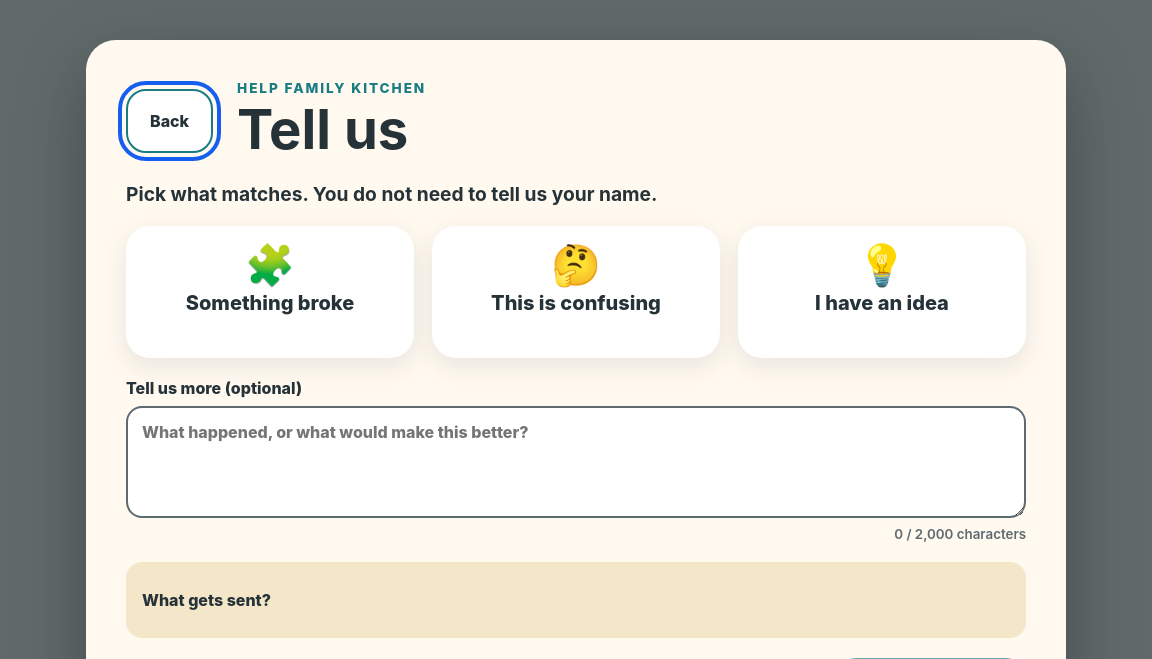
Test: dashboard feedback screen › announces a truthful queued result
This screenshot has width=1152, height=659.
Click the button "💡 I have an idea": [882, 292] box x1=738 y1=226 x2=1026 y2=358
(page scrolled)
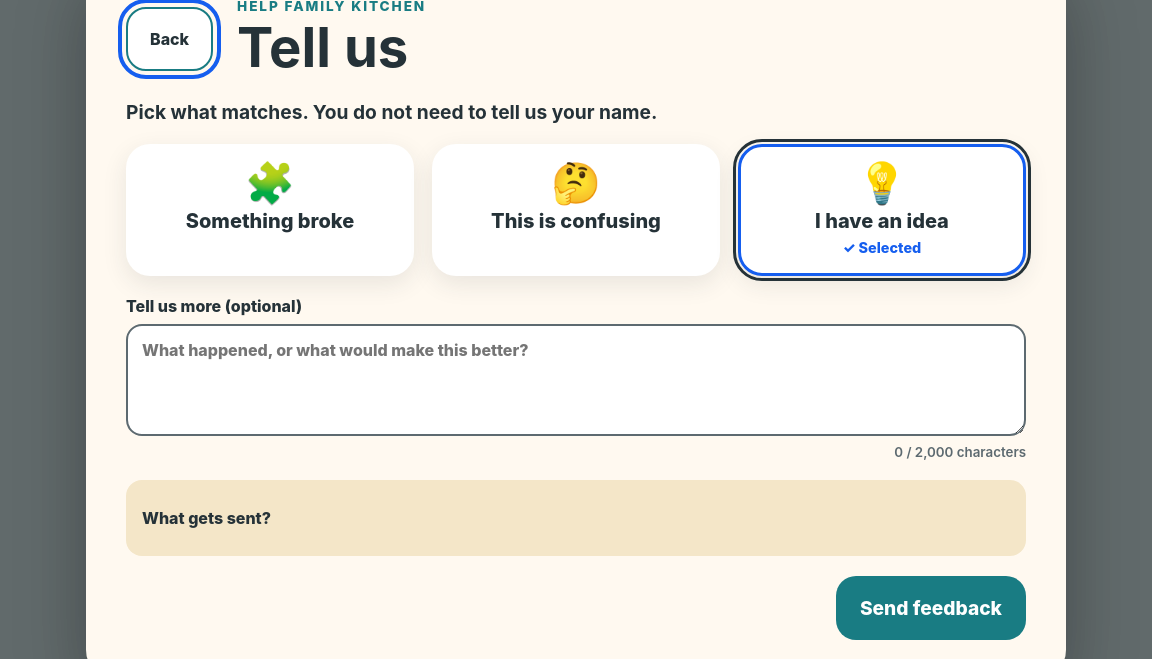
Click the button "Send feedback": [931, 608] box x1=836 y1=576 x2=1026 y2=640
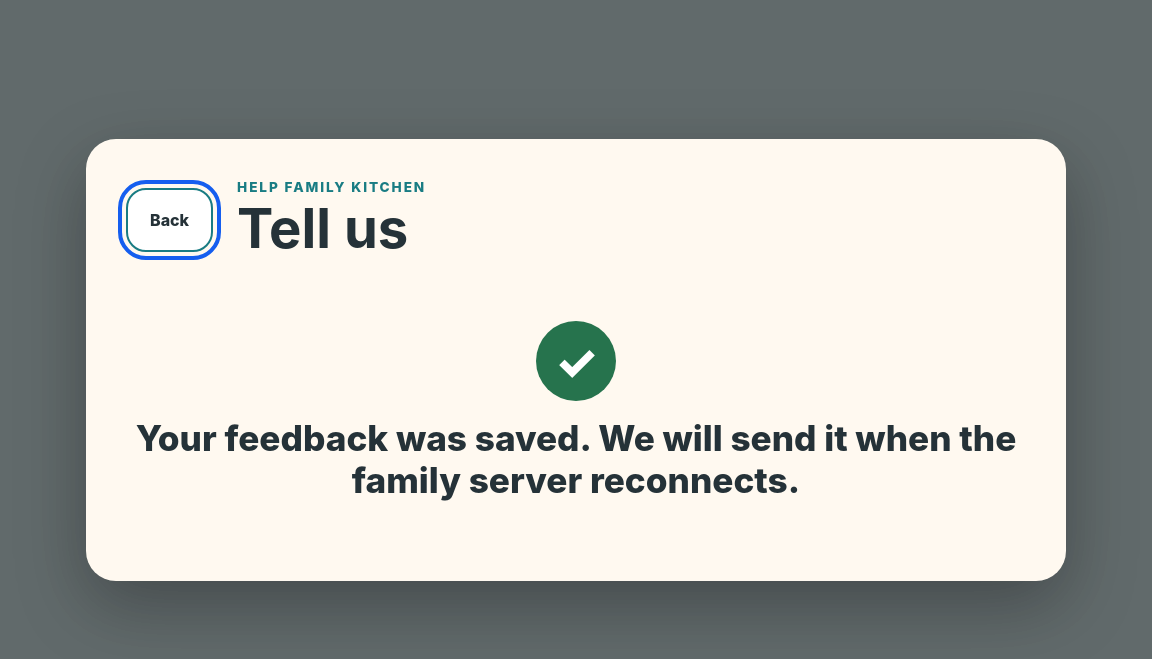
Now the text "Your feedback was saved. We will send it when the family server reconnects." is shown, box x1=126 y1=417 x2=1026 y2=501
